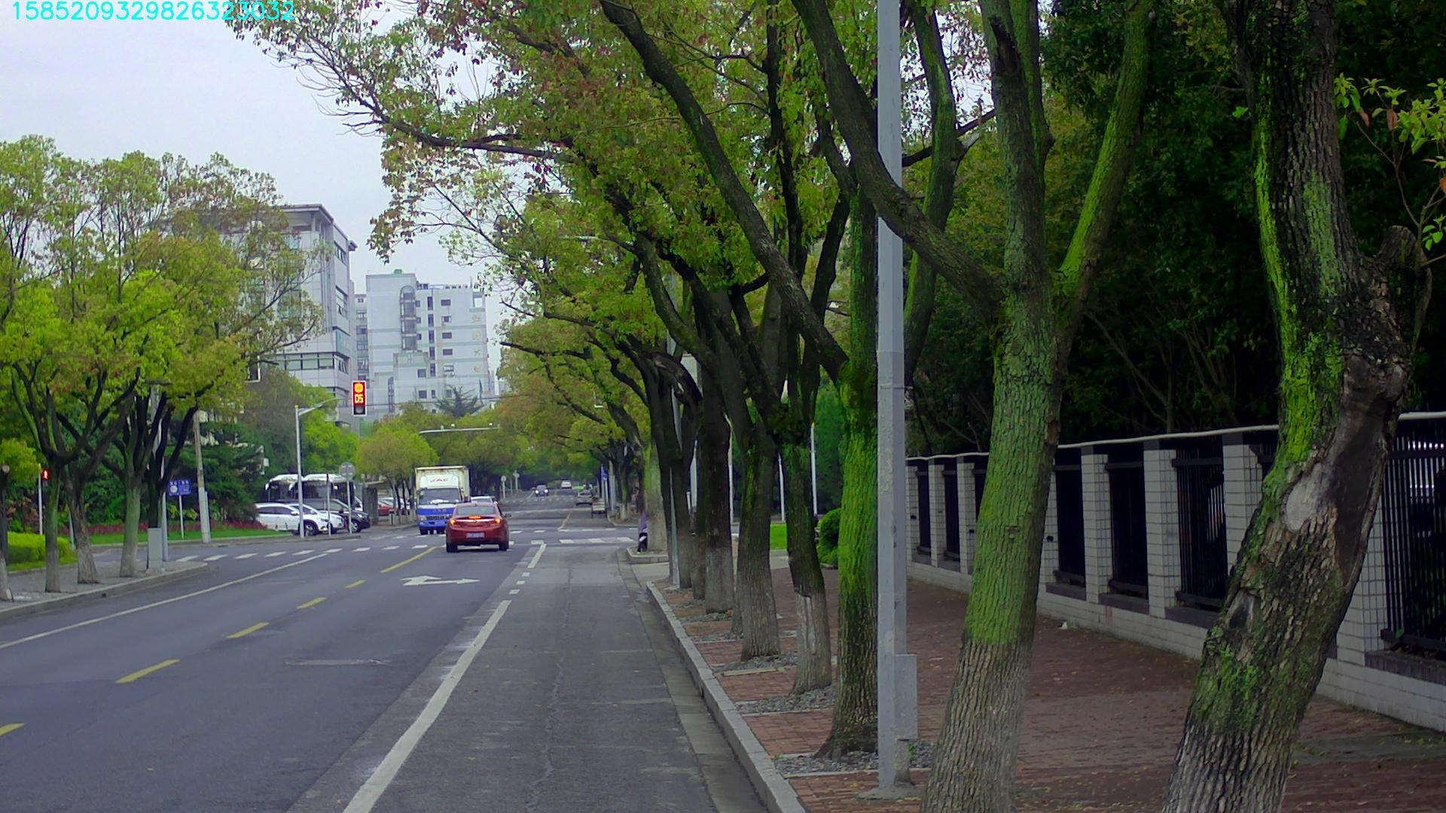red: (352, 380, 365, 414)
